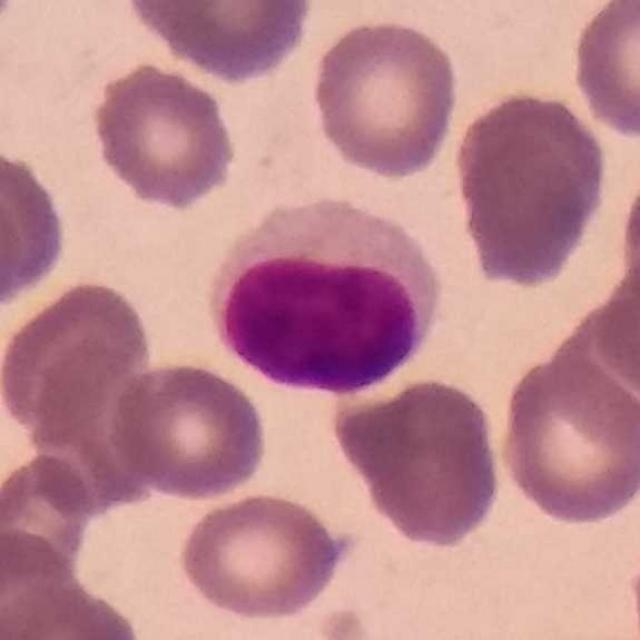Lymphocyte: (206, 191, 438, 400)
RBC: (448, 85, 611, 288), (334, 372, 507, 552), (494, 347, 640, 529), (0, 275, 156, 444), (307, 14, 463, 182), (105, 356, 272, 503), (86, 58, 240, 212), (176, 488, 349, 624), (125, 0, 318, 85), (0, 450, 98, 591), (0, 139, 72, 310), (566, 0, 640, 141), (0, 524, 82, 638), (2, 577, 145, 640), (591, 243, 640, 412), (614, 160, 640, 325), (0, 172, 26, 323)
